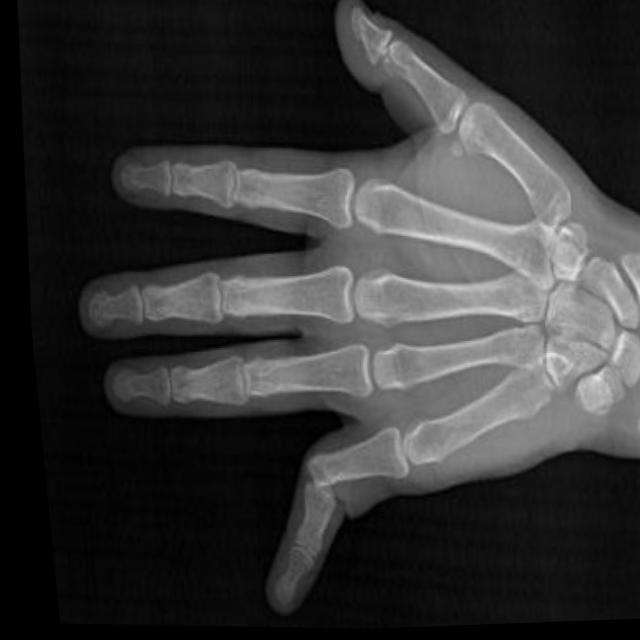fracture: (282, 455, 336, 535)
